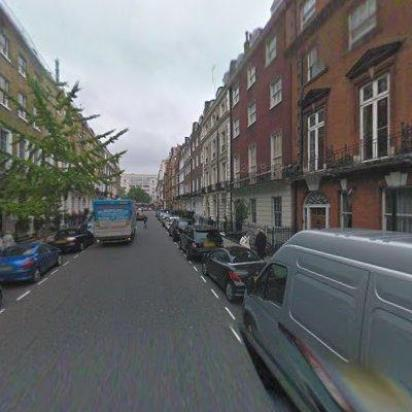moving-bicycle: (142, 210, 150, 232)
moving-car: (137, 208, 147, 220)
moving-heavy-truck: (92, 198, 136, 248)
stationary-car-onstreet: (203, 246, 266, 302), (0, 238, 61, 284), (178, 223, 224, 263), (46, 228, 94, 254), (170, 217, 192, 237), (164, 216, 180, 230)
stationary-light-truck-onstreet: (240, 224, 410, 410)
